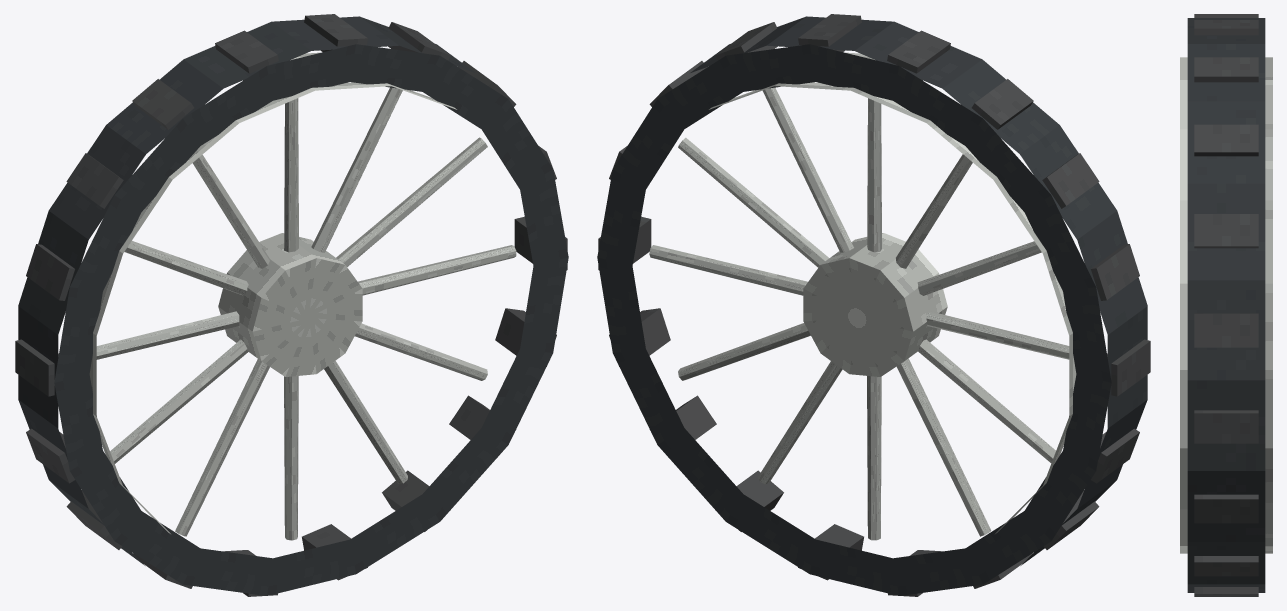
Rendered from wheel_bicycle.glb.
3 views of the same model, side by side, from view 1: azimuth 30°, elevation 25°; view 2: azimuth 150°, elevation 25°; view 3: azimuth 270°, elevation 25° (orthographic). The views are drawn at different scales.
Visible parts, largest first — view 1: block_tire sidewall (×18), block_spoke (×12), block_outer tire, block_raised tread (×13), block_hub, block_rim wall; view 2: block_tire sidewall (×18), block_spoke (×12), block_outer tire, block_raised tread (×13), block_hub, block_rim wall; view 3: block_outer tire, block_raised tread (×10), block_rim wall (×2).
Boxes of the visible parts, bbox=[...] form: block_tire sidewall (×18): bbox=[54, 44, 568, 595]; block_spoke (×12): bbox=[96, 87, 516, 540]; block_outer tire: bbox=[18, 16, 475, 565]; block_raised tread (×13): bbox=[15, 14, 556, 580]; block_hub: bbox=[218, 233, 362, 376]; block_rim wall: bbox=[89, 82, 456, 533]; block_tire sidewall (×18): bbox=[597, 44, 1111, 595]; block_spoke (×12): bbox=[649, 87, 1069, 540]; block_outer tire: bbox=[690, 16, 1147, 565]; block_raised tread (×13): bbox=[609, 14, 1150, 580]; block_hub: bbox=[803, 233, 947, 376]; block_rim wall: bbox=[709, 82, 1076, 533]; block_outer tire: bbox=[1187, 18, 1265, 592]; block_raised tread (×10): bbox=[1194, 14, 1258, 596]; block_rim wall (×2): bbox=[1180, 57, 1272, 553].
Bounding box in the file's own units: 0.686 × 0.6825 × 0.1092.
1 material, 1 textured.
